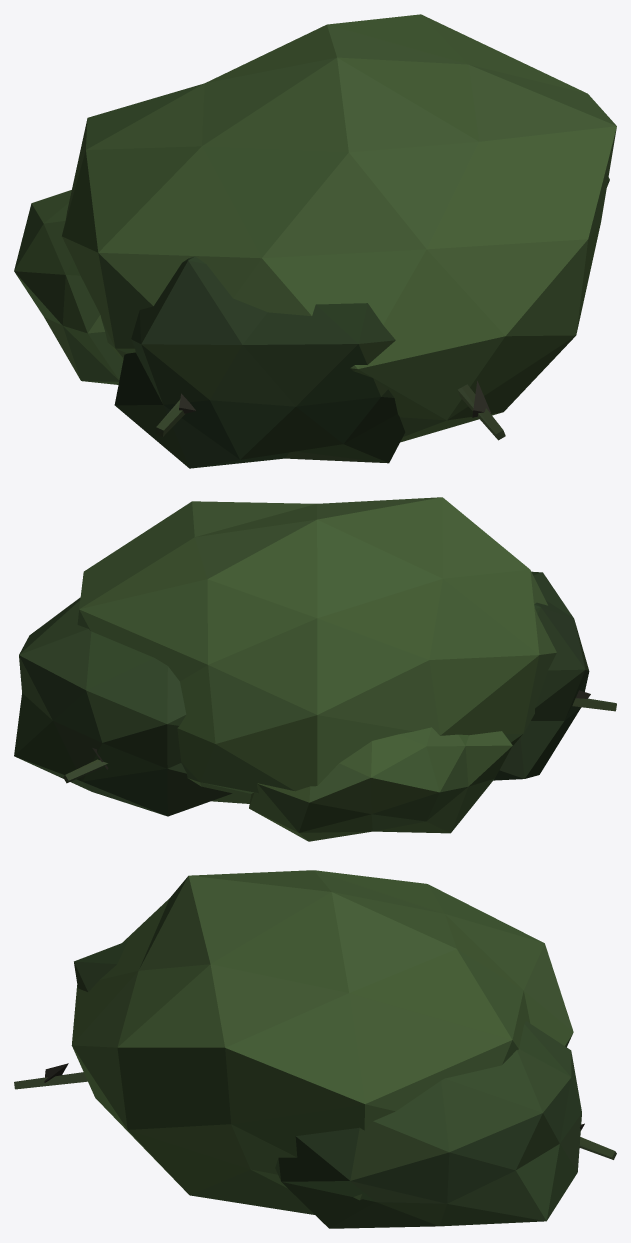
The model's file is ronce.glb.
3 renders of one model, top to bottom at view 1: azimuth 30°, elevation 25°; view 2: azimuth 150°, elevation 25°; view 3: azimuth 270°, elevation 25°, orthographic. The views are drawn at different scales.
Bounding box in the file's own units: 1.68 × 1 × 1.82.
